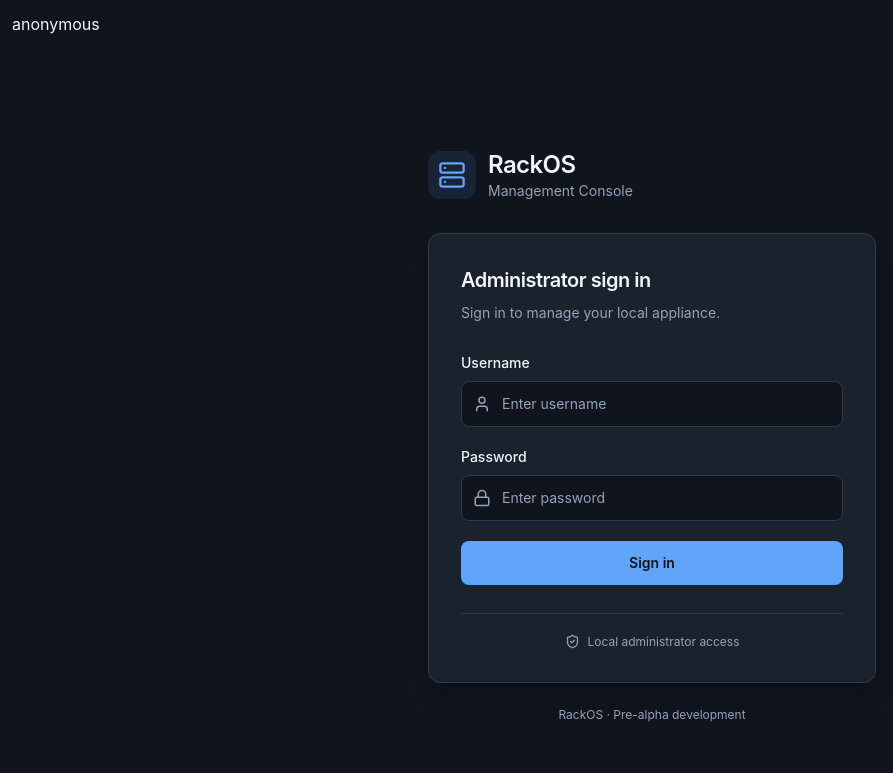
it: Administrator login page › displays a generic credential error and clears the password
Expected: the heading "Administrator sign in" is shown, [461,268,651,292]
Type "admin" into the field labelled "Username". click: [652, 404]
box: [461,381,843,427]
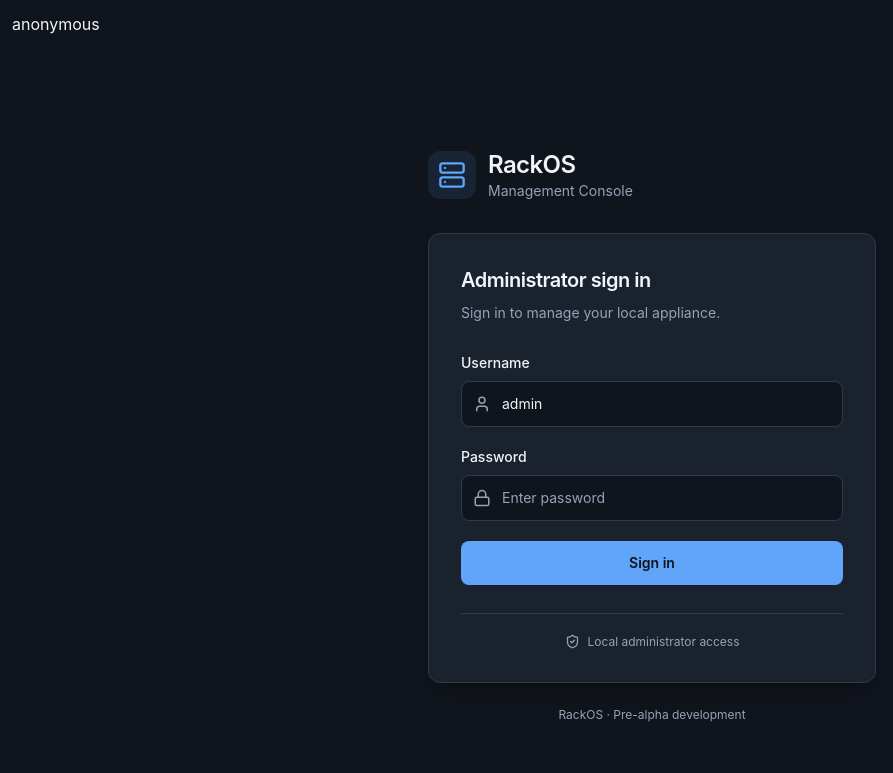
Type "synthetic-test-password" into the password field labelled "Password". click: [652, 498]
box: [461,475,843,521]
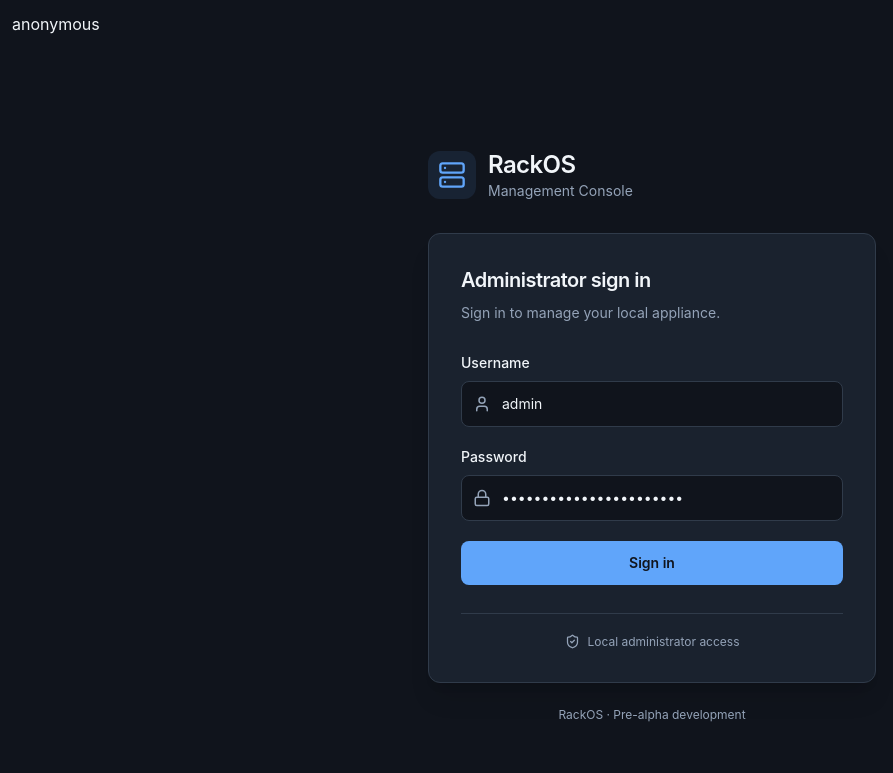
Submit the form named "Administrator sign in", box [461,353,843,585]
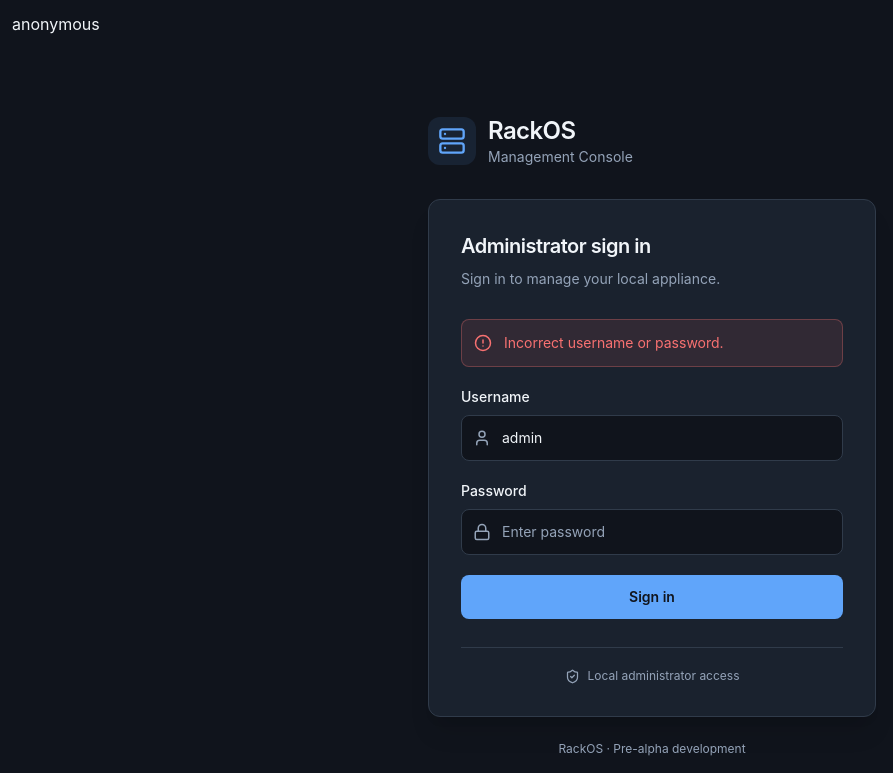
Expected: the button "Sign in" is enabled, [461,575,843,619]
Now the message reads "Incorrect username or password.", box [504,334,724,350]
Now the password field labelled "Password" is empty, box [461,509,843,555]
